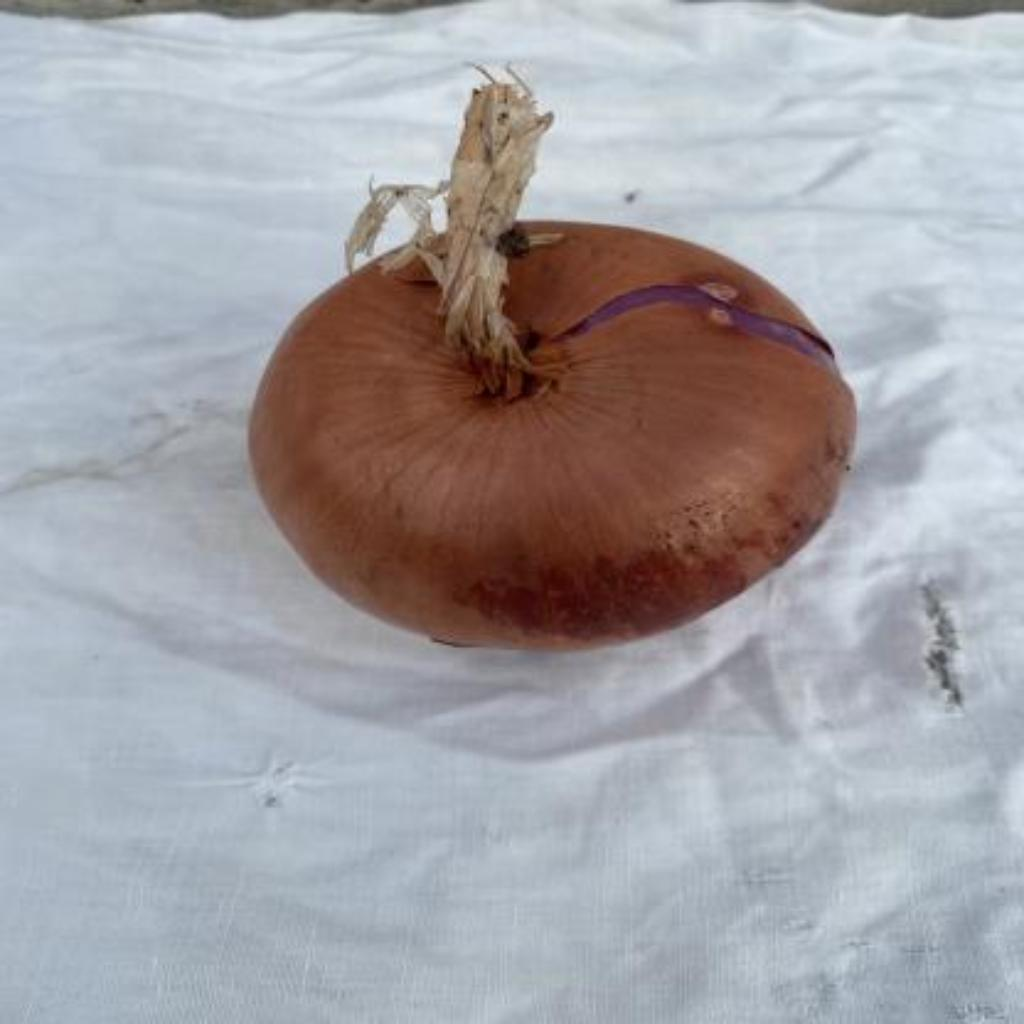Onion: (251, 71, 857, 649)
